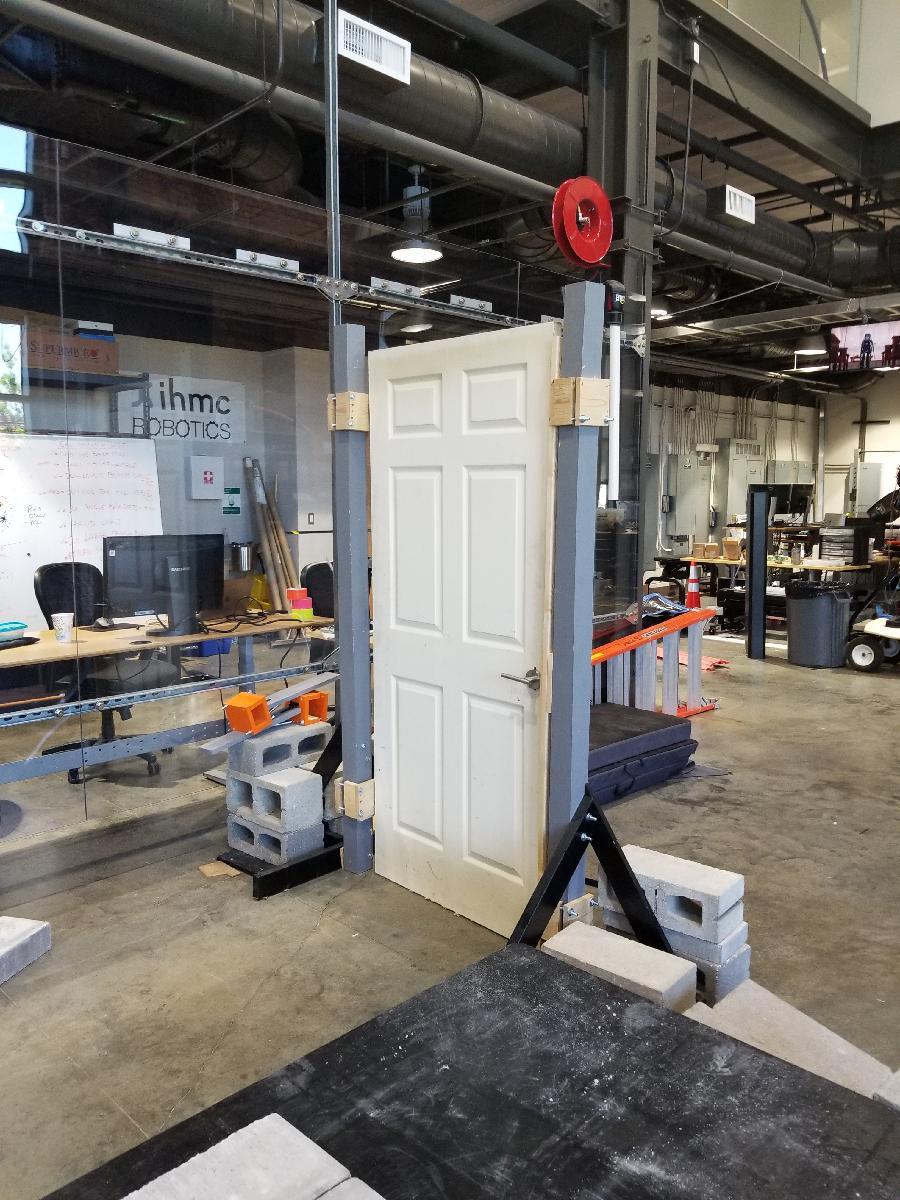door: (366, 315, 567, 975)
doorHandle: (497, 659, 546, 693)
